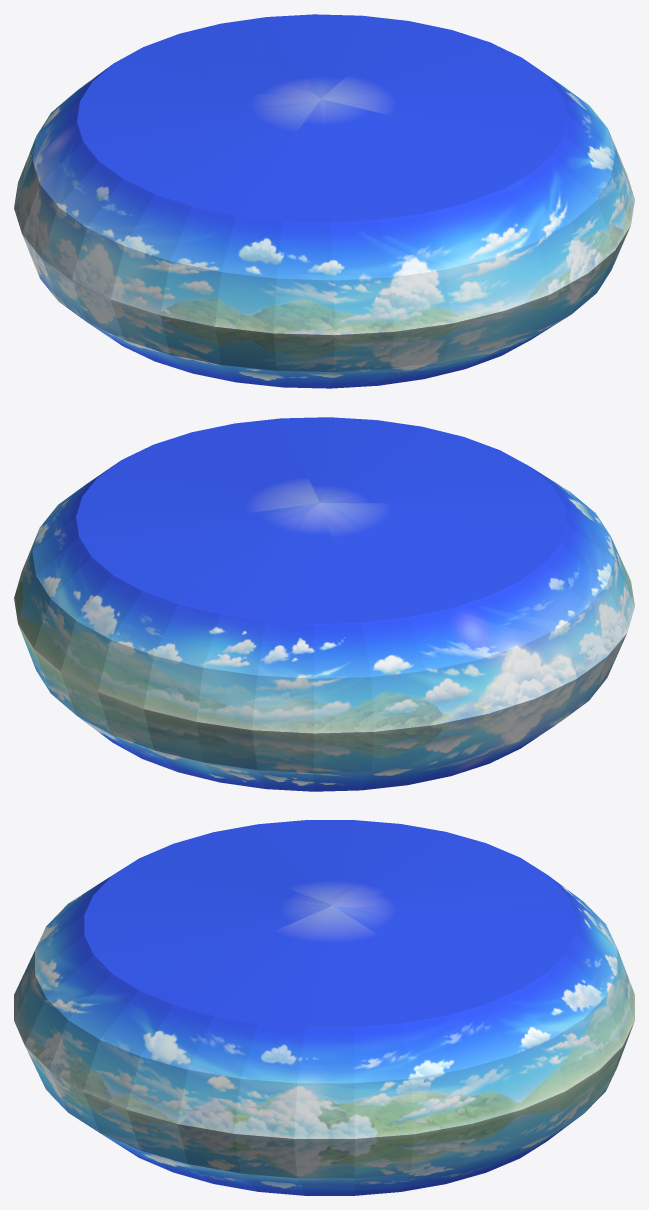
File: Toy city.glb
3 renders of one model, top to bottom at view 1: azimuth 30°, elevation 25°; view 2: azimuth 150°, elevation 25°; view 3: azimuth 270°, elevation 25°, orthographic.
Visible parts, largest first — view 1: Geo.191_1; view 2: Geo.191_1; view 3: Geo.191_1.
Boxes of the visible parts, bbox=[...] form: Geo.191_1: bbox=[14, 14, 634, 388]; Geo.191_1: bbox=[14, 417, 634, 791]; Geo.191_1: bbox=[14, 820, 634, 1195].
Bounding box in the file's own units: 766 × 279 × 766.
58 materials, 58 textured.
